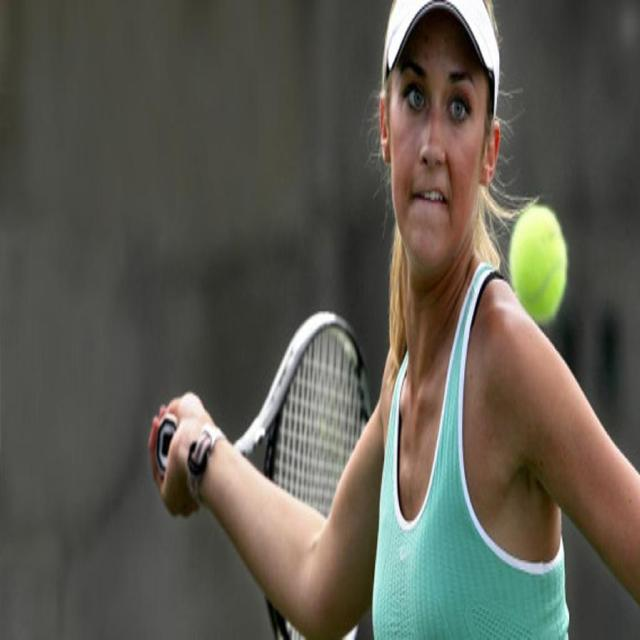Face: (388, 26, 499, 268)
